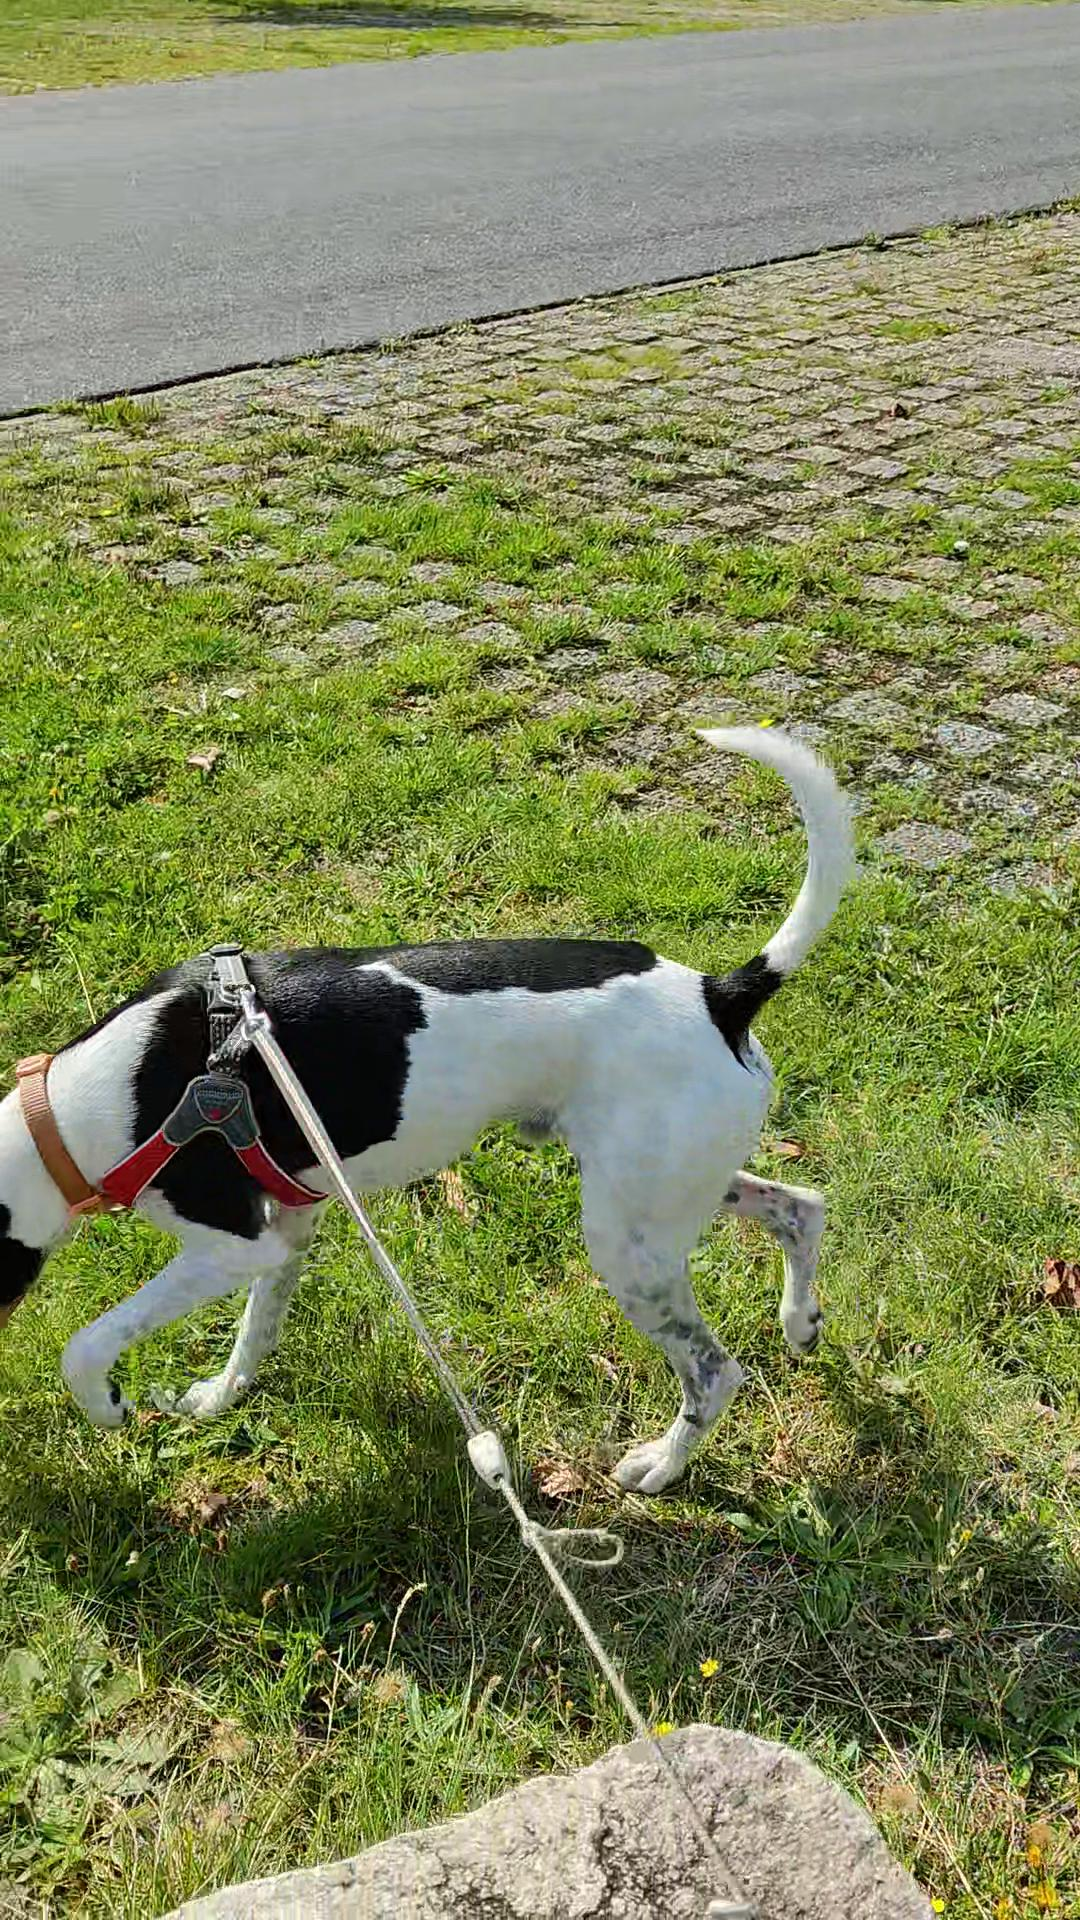Dog: (0, 705, 898, 1502)
